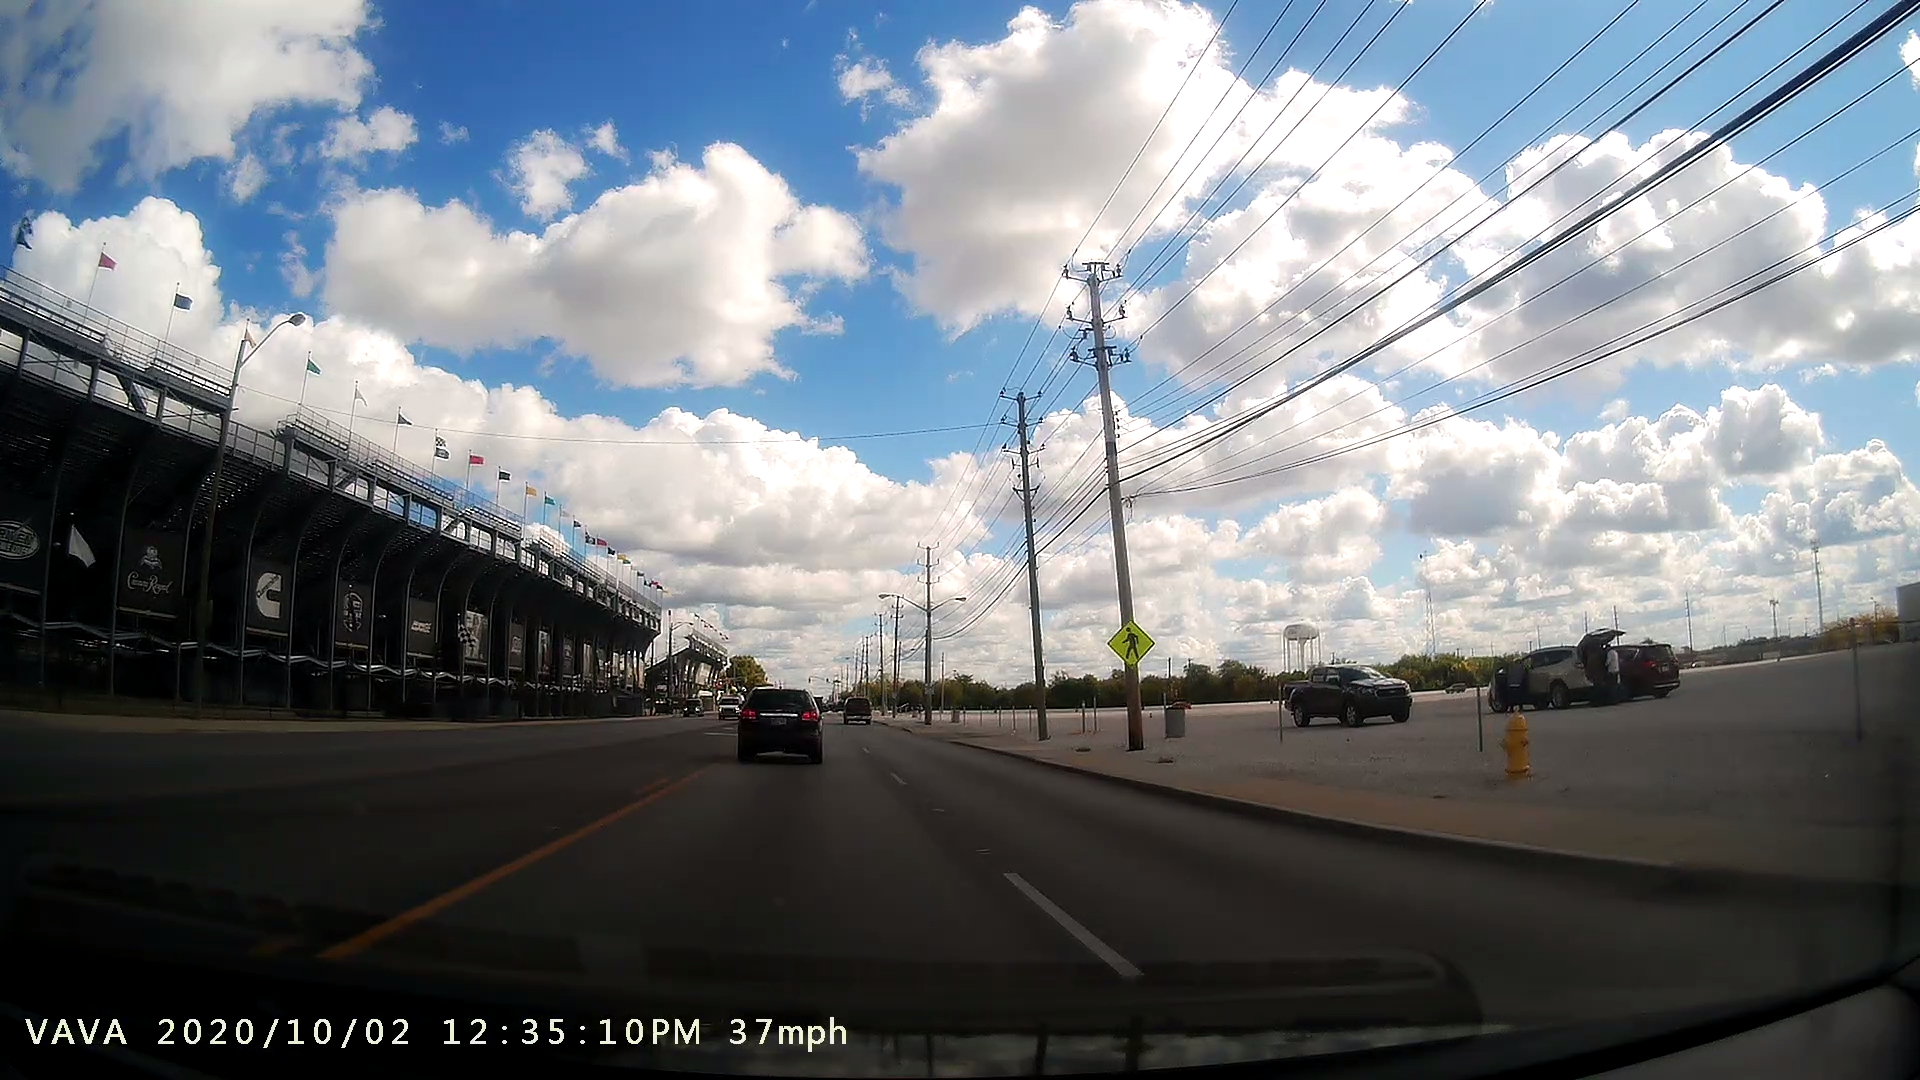fire_hydrant: (1480, 700, 1547, 796)
